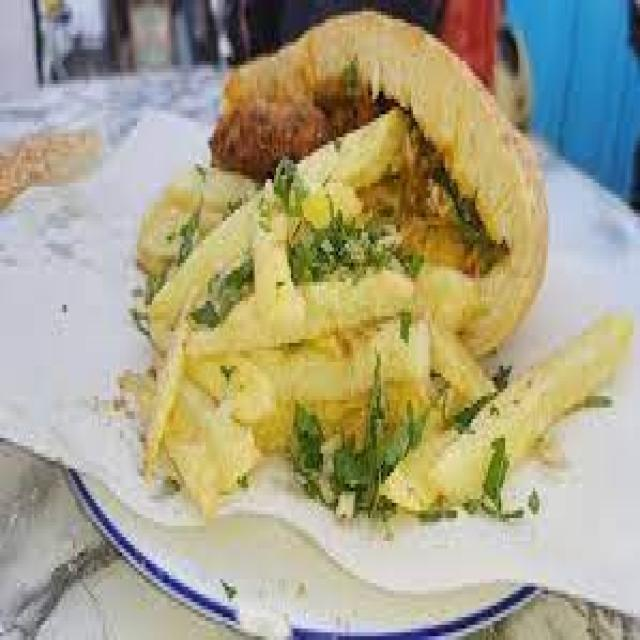Sandwitch tounsi: (199, 52, 596, 334)
